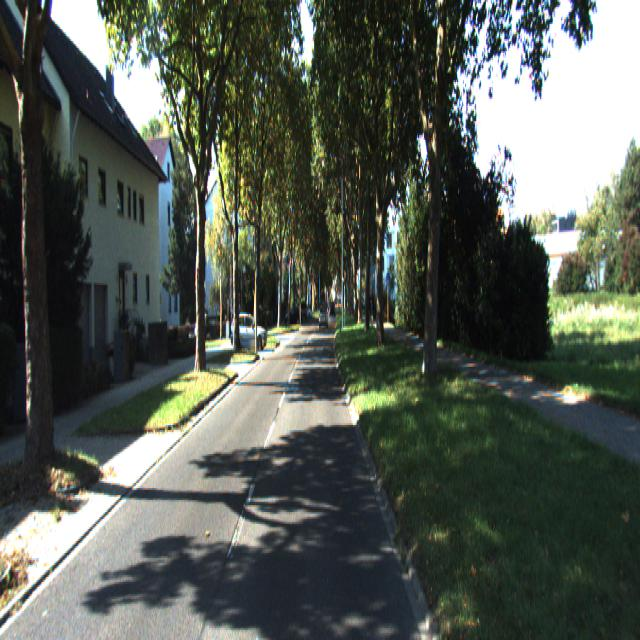Car: (229, 314, 268, 352)
